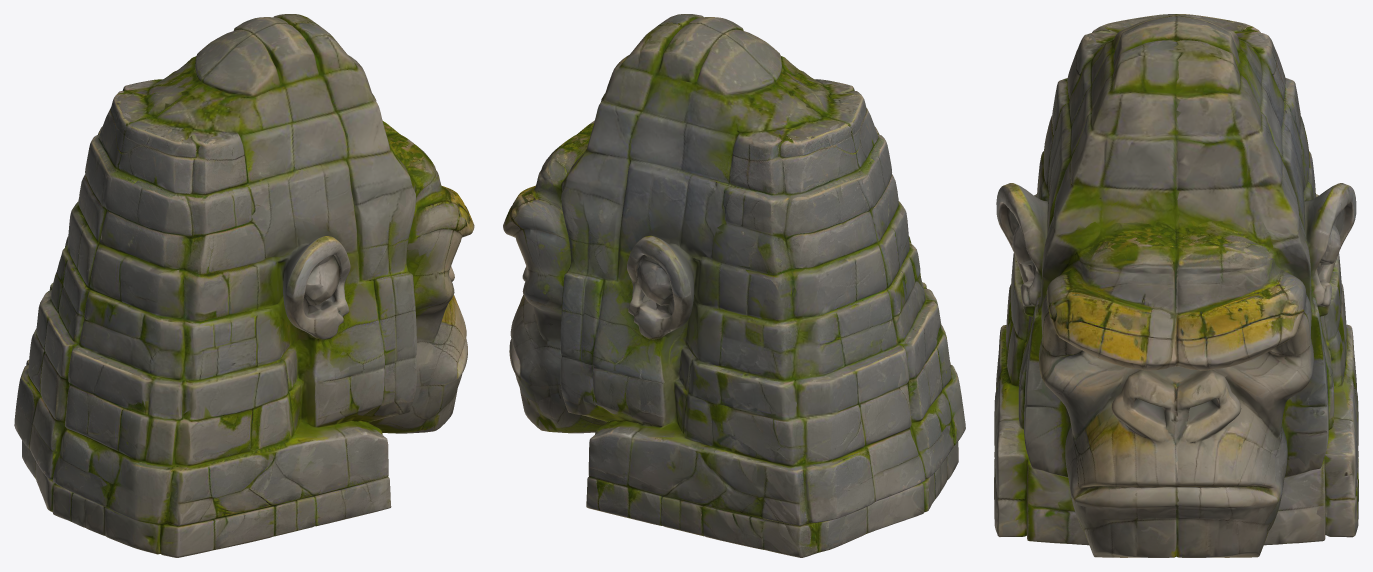
The model's file is gorilla-head.glb.
The picture shows the model from 3 angles, left to right: view 1: azimuth 30°, elevation 25°; view 2: azimuth 150°, elevation 25°; view 3: azimuth 270°, elevation 25°; orthographic projection. The views are drawn at different scales.
Visible parts, largest first — view 1: tripo_node_379f2c09-3e2e-47e7-b713-a3f6207ea97d; view 2: tripo_node_379f2c09-3e2e-47e7-b713-a3f6207ea97d; view 3: tripo_node_379f2c09-3e2e-47e7-b713-a3f6207ea97d.
Boxes of the visible parts, x1,y1,x2,y2 form: tripo_node_379f2c09-3e2e-47e7-b713-a3f6207ea97d: (14, 14, 474, 557); tripo_node_379f2c09-3e2e-47e7-b713-a3f6207ea97d: (503, 14, 965, 557); tripo_node_379f2c09-3e2e-47e7-b713-a3f6207ea97d: (994, 14, 1358, 557).
Bounding box in the file's own units: 0.9542 × 1 × 0.668.
1 material, 1 textured.
